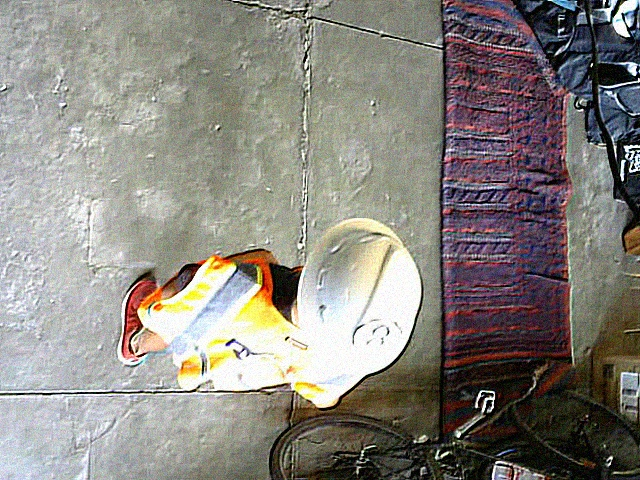eight: (353, 317, 408, 361)
